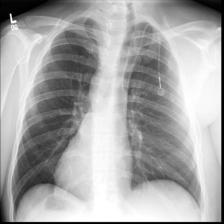normal: (7, 13, 208, 221)
